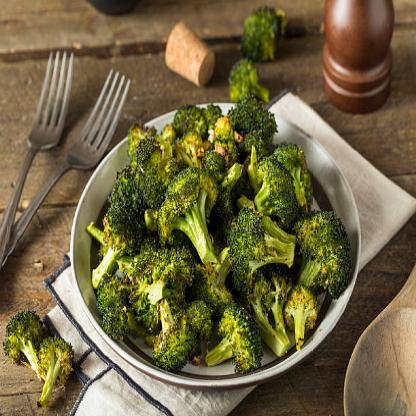broccoli: (82, 94, 352, 376)
